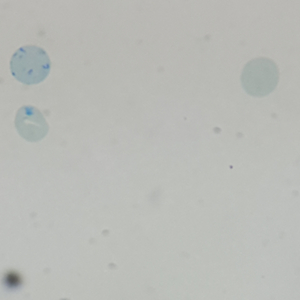aggregate reticulocyte: (8, 43, 52, 87)
erythrocyte: (238, 56, 282, 99), (12, 103, 51, 145)
